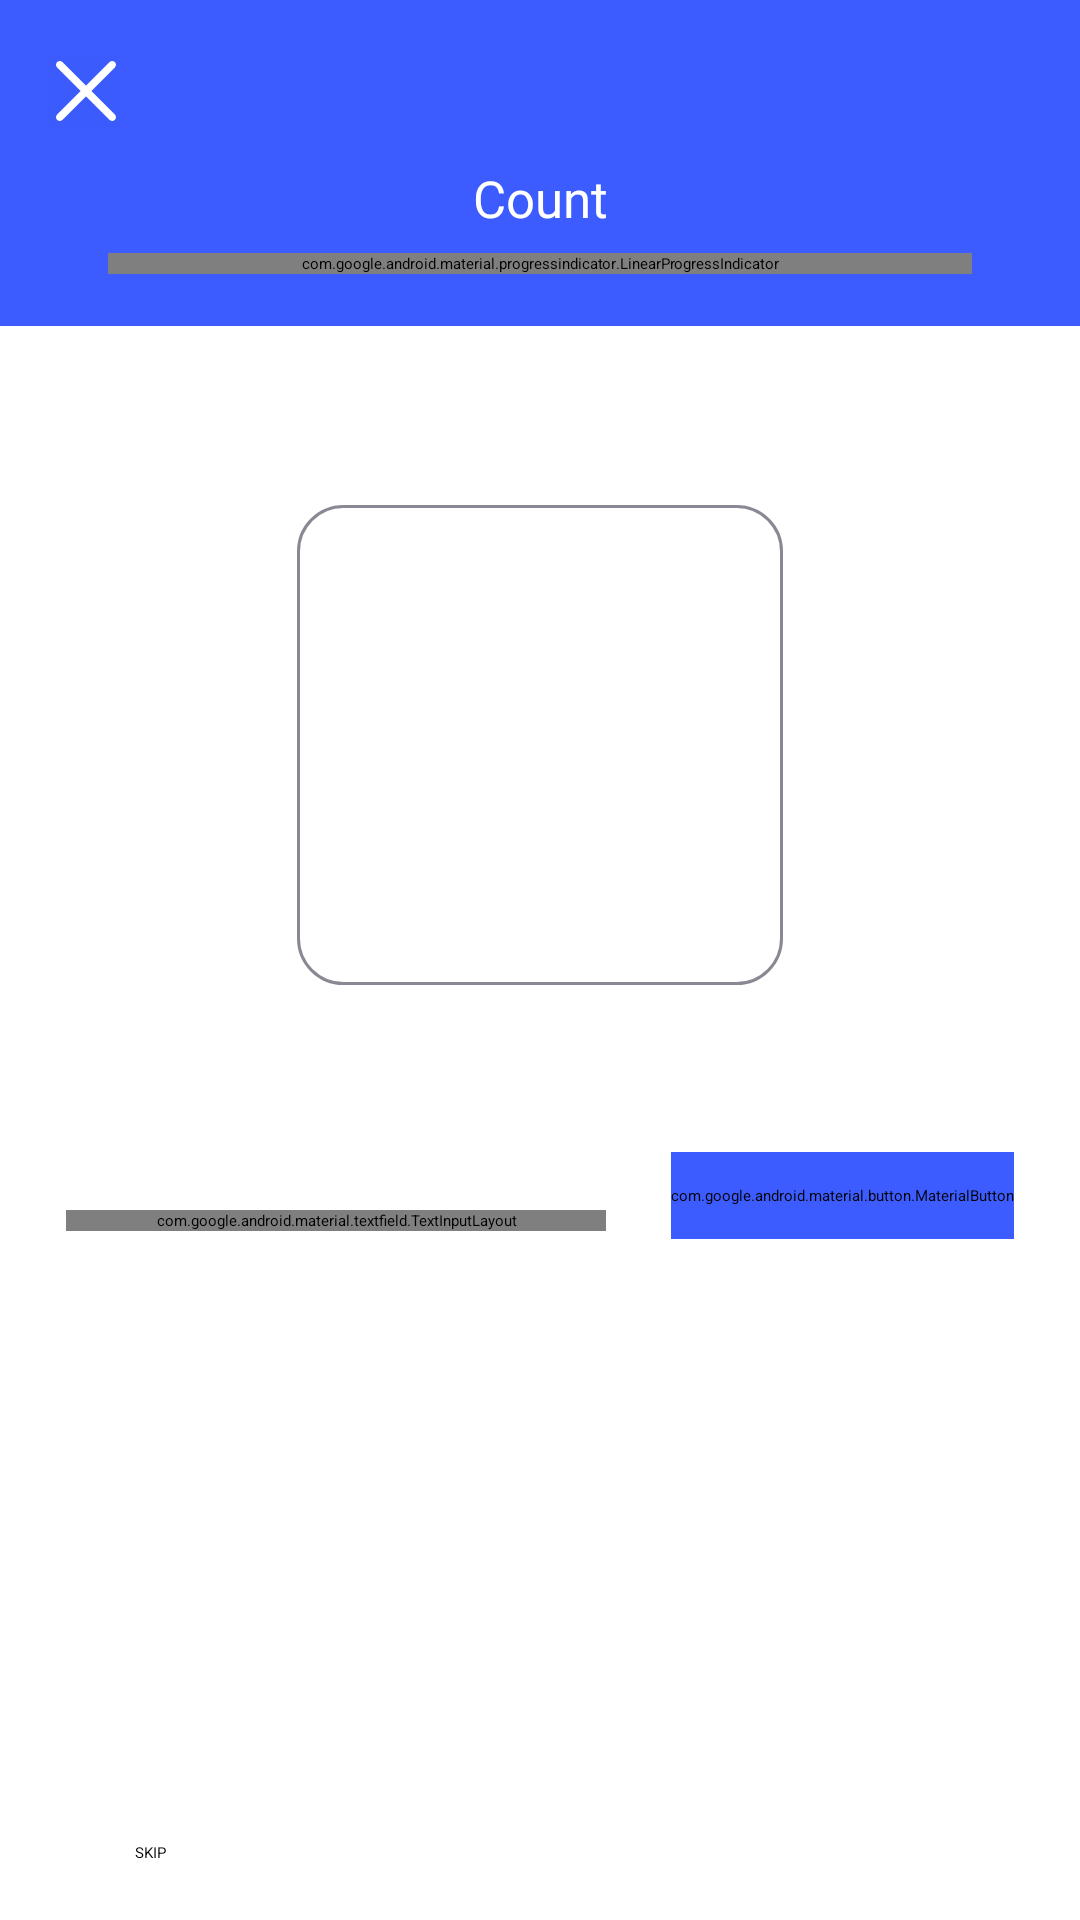

Icons on this 1080px x 1920px Android screen, each with its box as [x1, y1, x2, y2]:
close image button: [56, 61, 116, 121]
